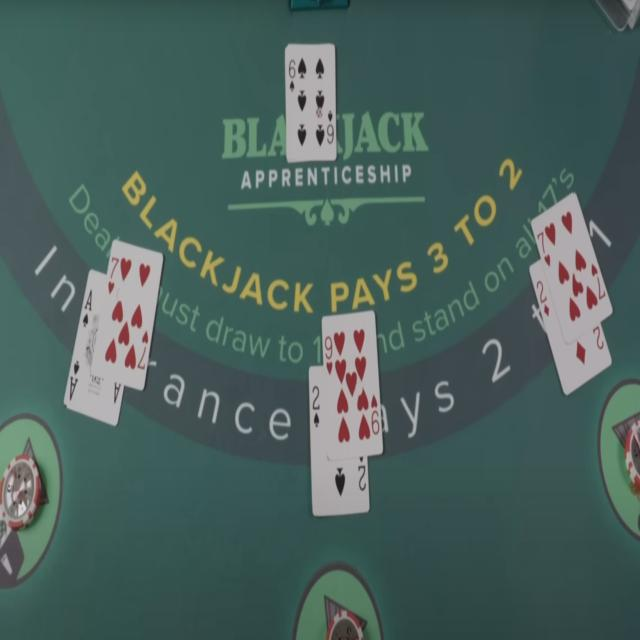2: (311, 383, 322, 412), (536, 278, 548, 304)
6: (287, 56, 297, 78)
7: (109, 255, 120, 280), (536, 230, 546, 254)
9: (324, 334, 333, 361)
A: (84, 287, 94, 312)
